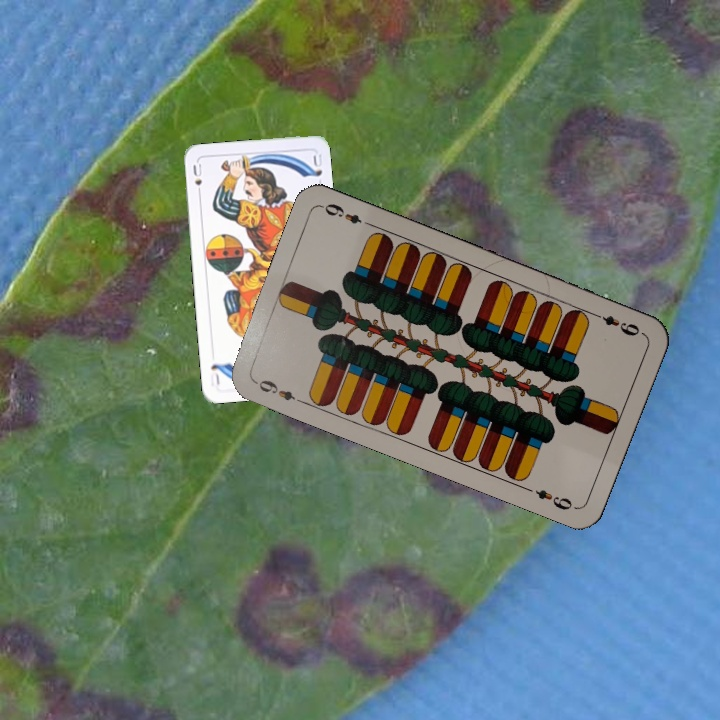E9: (250, 375, 307, 407), (588, 308, 645, 339)
SU: (189, 159, 204, 199)
